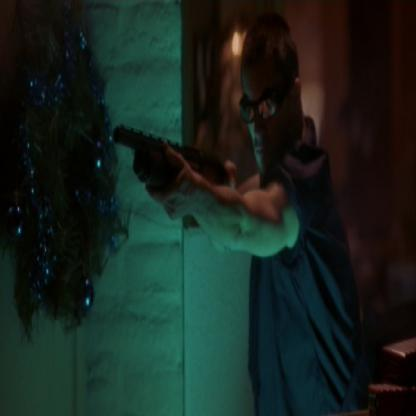Guns: (108, 114, 239, 242)
